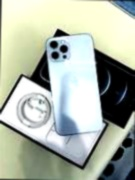iphone: (45, 33, 104, 137)
